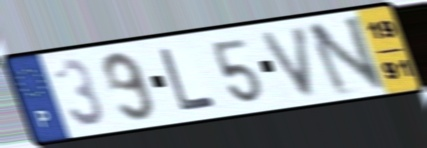3: (51, 56, 107, 130)
5: (207, 34, 268, 104)
9: (100, 49, 157, 123)
L: (156, 45, 221, 114)
N: (303, 12, 390, 99)
V: (257, 22, 316, 100)
